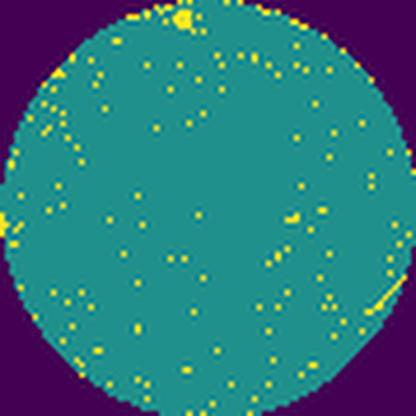Loc: (168, 9, 199, 33)
